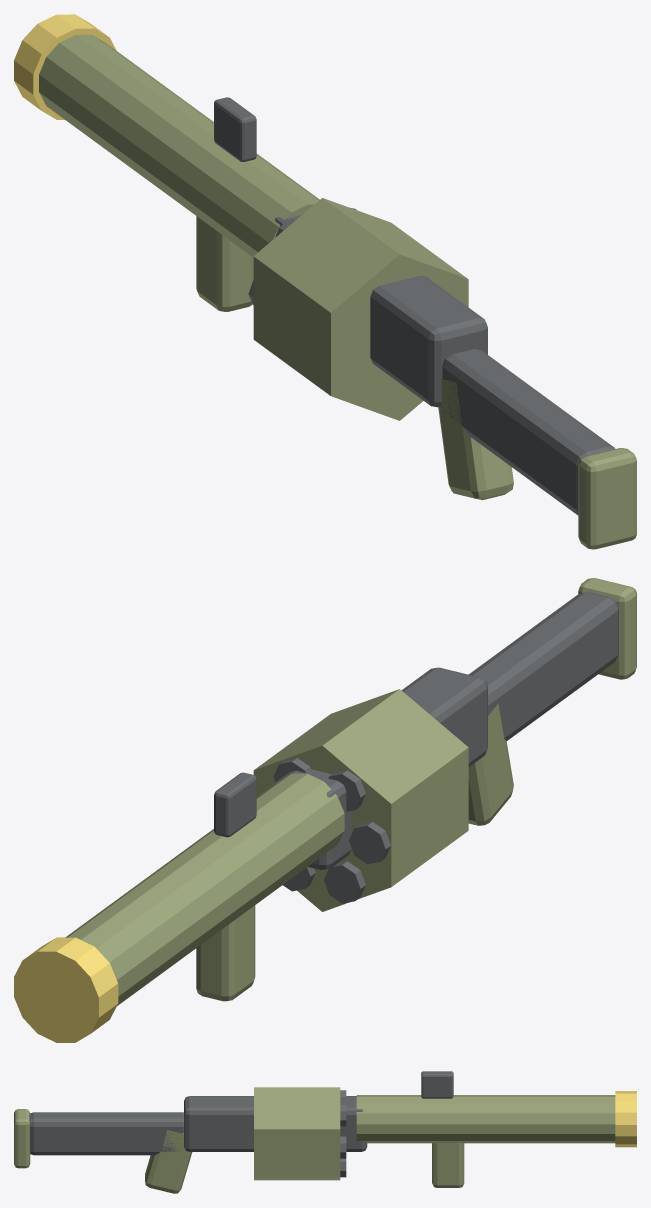
Rendered from launcher.glb.
3 views of the same model, one above another, from view 1: azimuth 30°, elevation 25°; view 2: azimuth 150°, elevation 25°; view 3: azimuth 270°, elevation 25° (orthographic). The views are drawn at different scales.
Visible parts, largest first — view 1: Drum, Barrel, Stock, Frame, ButtPad, Grip, FrontGrip, MuzzleRing, Sight; view 2: Barrel, Drum, Stock, MuzzleRing, Frame, FrontGrip, Grip, ButtPad, Sight, Chamber3, Chamber4, Chamber2; view 3: Barrel, Drum, Stock, Frame, Grip, FrontGrip, MuzzleRing, ButtPad, Sight.
Boxes of the visible parts, x1,y1,x2,y2 form: Drum: (253, 198, 468, 420); Barrel: (39, 34, 319, 257); Stock: (442, 349, 615, 515); Frame: (275, 215, 487, 407); ButtPad: (578, 448, 636, 549); Grip: (438, 377, 513, 500); FrontGrip: (196, 216, 253, 311); MuzzleRing: (14, 14, 116, 119); Sight: (214, 97, 256, 161); Barrel: (65, 773, 344, 1005); Drum: (253, 689, 468, 911); Stock: (469, 592, 618, 741); MuzzleRing: (14, 937, 118, 1042); Frame: (275, 667, 487, 869); FrontGrip: (196, 905, 255, 1001); Grip: (468, 704, 513, 825); ButtPad: (578, 578, 636, 679); Sight: (214, 772, 256, 837); Chamber3: (349, 822, 390, 864); Chamber4: (324, 861, 365, 903); Chamber2: (328, 770, 365, 811); Barrel: (356, 1095, 615, 1143); Drum: (254, 1087, 340, 1180); Stock: (29, 1112, 183, 1155); Frame: (184, 1096, 367, 1151); Grip: (145, 1130, 192, 1193); FrontGrip: (432, 1143, 464, 1187); MuzzleRing: (615, 1091, 636, 1147); ButtPad: (14, 1109, 30, 1168); Sight: (421, 1071, 453, 1098).
Bounding box in the file's own units: 0.1645 × 0.241 × 1.15.
